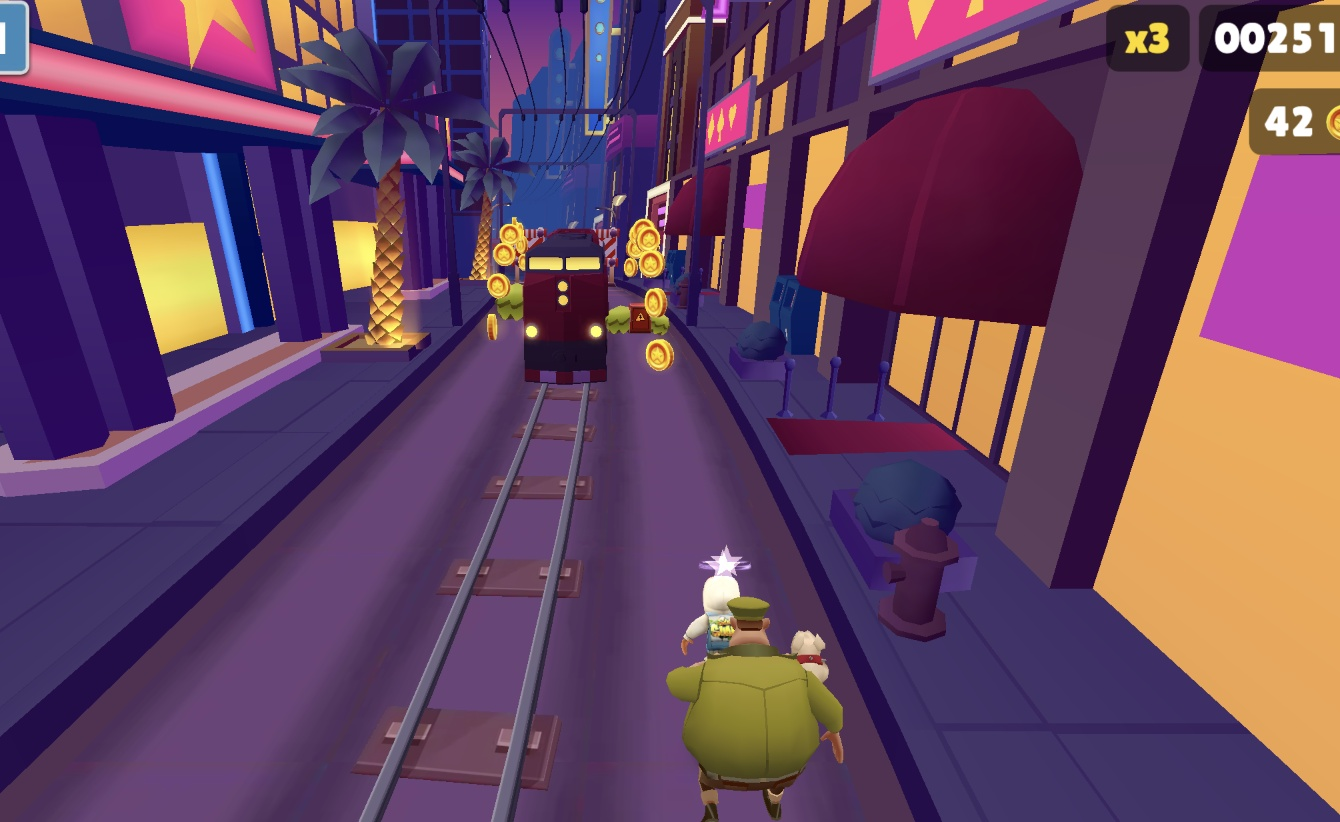bush: (495, 274, 525, 314), (607, 300, 631, 329), (651, 303, 670, 330)
overhead_barrier: (595, 226, 617, 272), (518, 227, 543, 266)
small_obstacle: (630, 298, 651, 328)
train: (518, 224, 613, 381)
